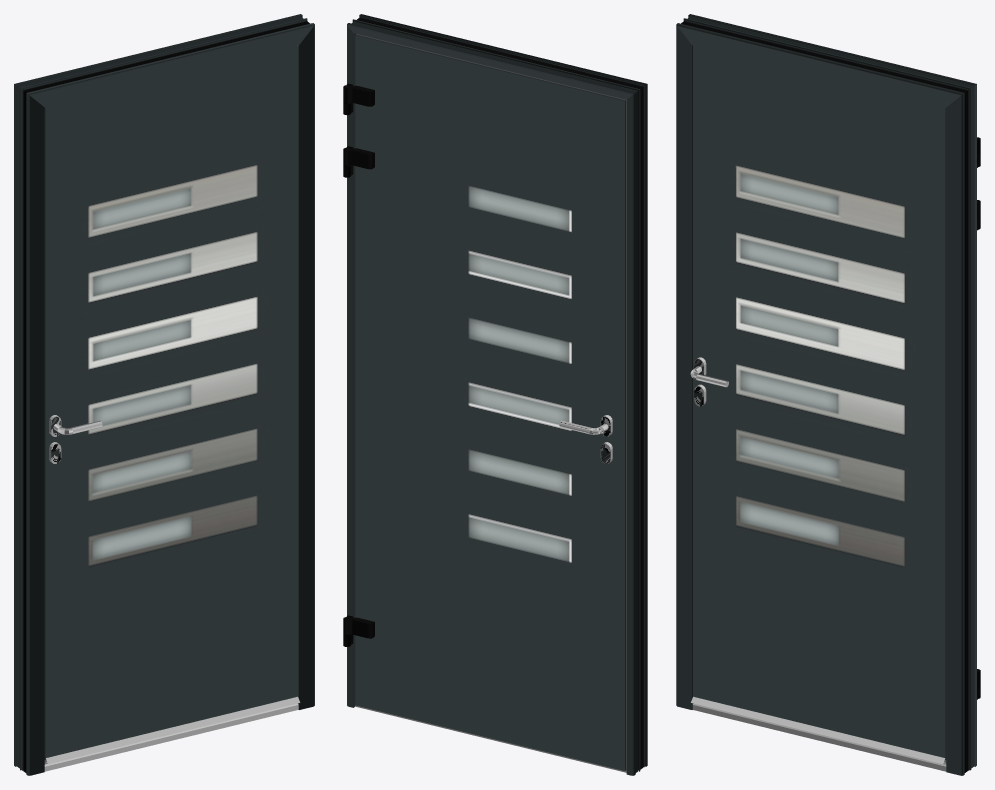
3 renders of one model, left to right at view 1: azimuth 30°, elevation 25°; view 2: azimuth 150°, elevation 25°; view 3: azimuth 330°, elevation 25°, orthographic.
Visible parts, largest first — view 1: ouvrant, 85; view 2: ouvrant, 85; view 3: ouvrant, 85.
Part boxes in pixels (left/top/right/bottom): ouvrant: left=44, top=46, right=300, bottom=764; 85: left=14, top=14, right=314, bottom=775; ouvrant: left=343, top=34, right=626, bottom=770; 85: left=343, top=14, right=647, bottom=775; ouvrant: left=691, top=46, right=980, bottom=764; 85: left=676, top=14, right=980, bottom=775.
Bounding box in the file's own units: 96 × 218 × 22.64.
1 material, 1 textured.
